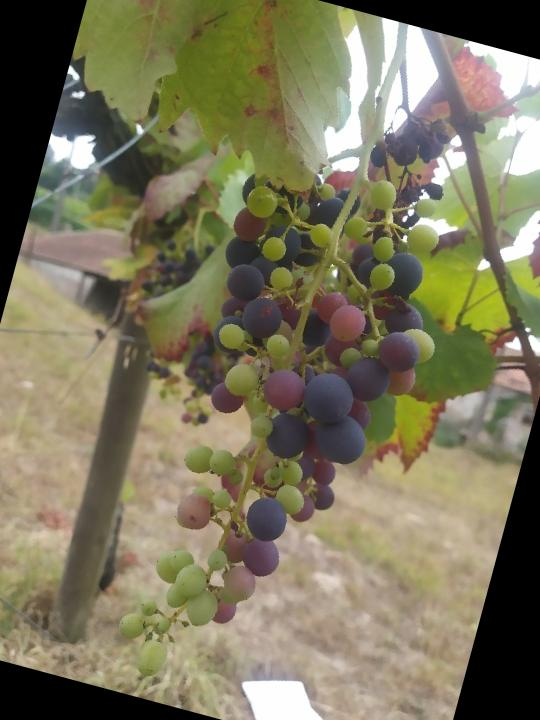grape: (105, 70, 497, 720)
